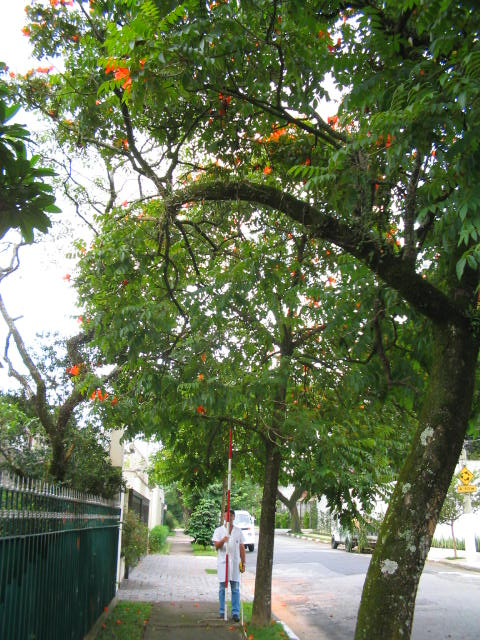stem: (337, 329, 478, 639), (246, 454, 290, 627)
stick: (221, 430, 239, 622)
